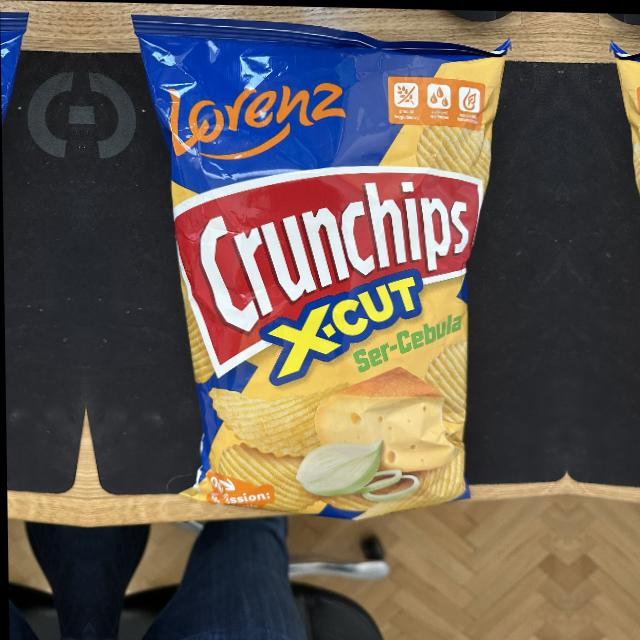crunchips: (174, 165, 483, 379)
